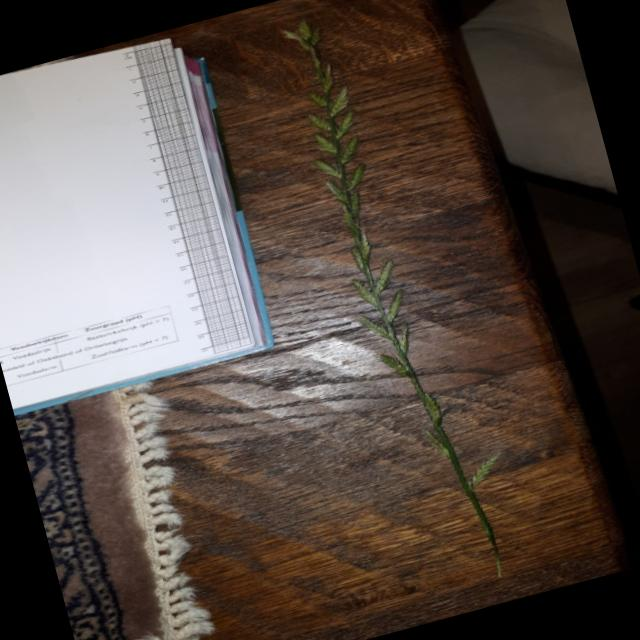Lolium: (267, 0, 530, 600)
